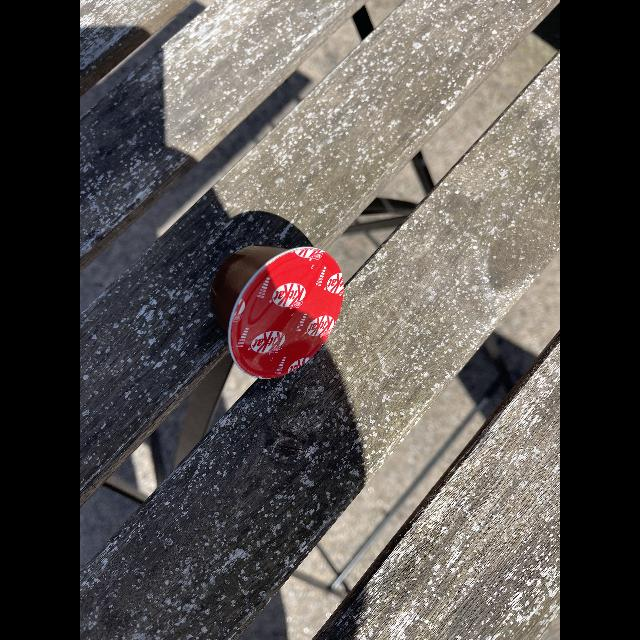intact_capsule: (204, 238, 350, 384)
